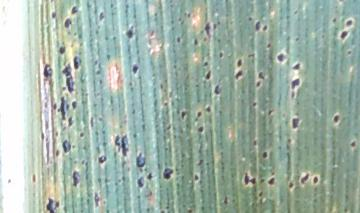tarspot: (112, 133, 131, 158), (62, 63, 75, 96), (45, 194, 60, 213), (70, 169, 82, 189), (134, 152, 147, 169), (42, 62, 54, 80), (162, 166, 176, 181), (72, 53, 83, 72), (58, 97, 66, 123), (61, 137, 72, 155), (274, 50, 289, 63), (135, 175, 147, 191), (289, 76, 301, 92), (289, 115, 301, 131), (124, 25, 135, 41), (300, 170, 311, 186), (211, 83, 223, 97), (203, 21, 212, 39), (233, 57, 246, 69), (57, 42, 68, 56), (130, 62, 141, 76), (232, 69, 246, 80), (65, 115, 75, 130), (62, 17, 73, 30), (266, 175, 277, 188), (191, 172, 202, 185), (98, 153, 108, 167), (339, 29, 349, 42), (69, 4, 79, 17), (241, 172, 250, 186), (203, 69, 214, 80), (344, 17, 355, 28), (291, 61, 301, 73), (193, 35, 201, 50), (146, 170, 155, 183), (174, 34, 183, 47), (333, 111, 340, 127), (71, 98, 79, 112), (98, 9, 106, 23), (349, 137, 357, 151), (196, 108, 204, 122), (203, 105, 214, 115), (249, 99, 260, 109), (179, 108, 188, 120), (261, 22, 270, 34), (254, 20, 262, 33), (250, 175, 258, 188), (286, 180, 296, 190), (254, 80, 264, 90), (76, 130, 86, 140), (49, 10, 60, 19), (261, 149, 269, 161), (216, 50, 226, 59), (312, 174, 319, 186), (39, 131, 46, 143), (222, 193, 229, 205), (197, 125, 206, 134), (257, 71, 266, 80), (51, 102, 58, 113), (258, 176, 267, 184), (186, 206, 194, 213)
